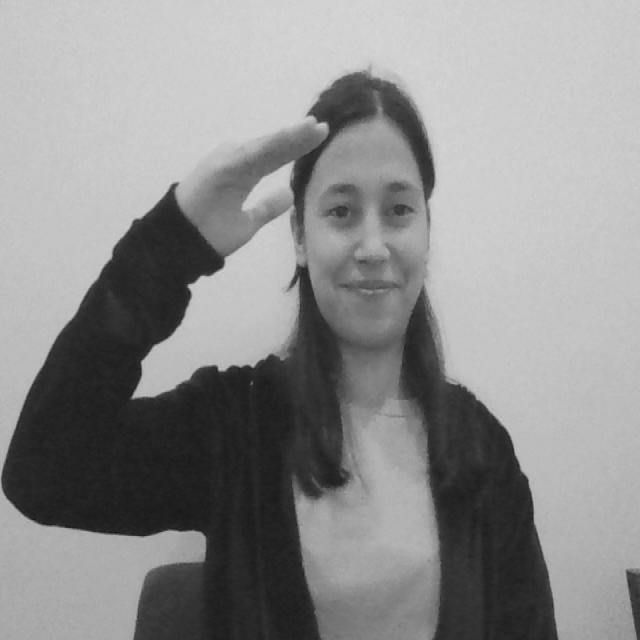Merhaba: (170, 85, 342, 323)
